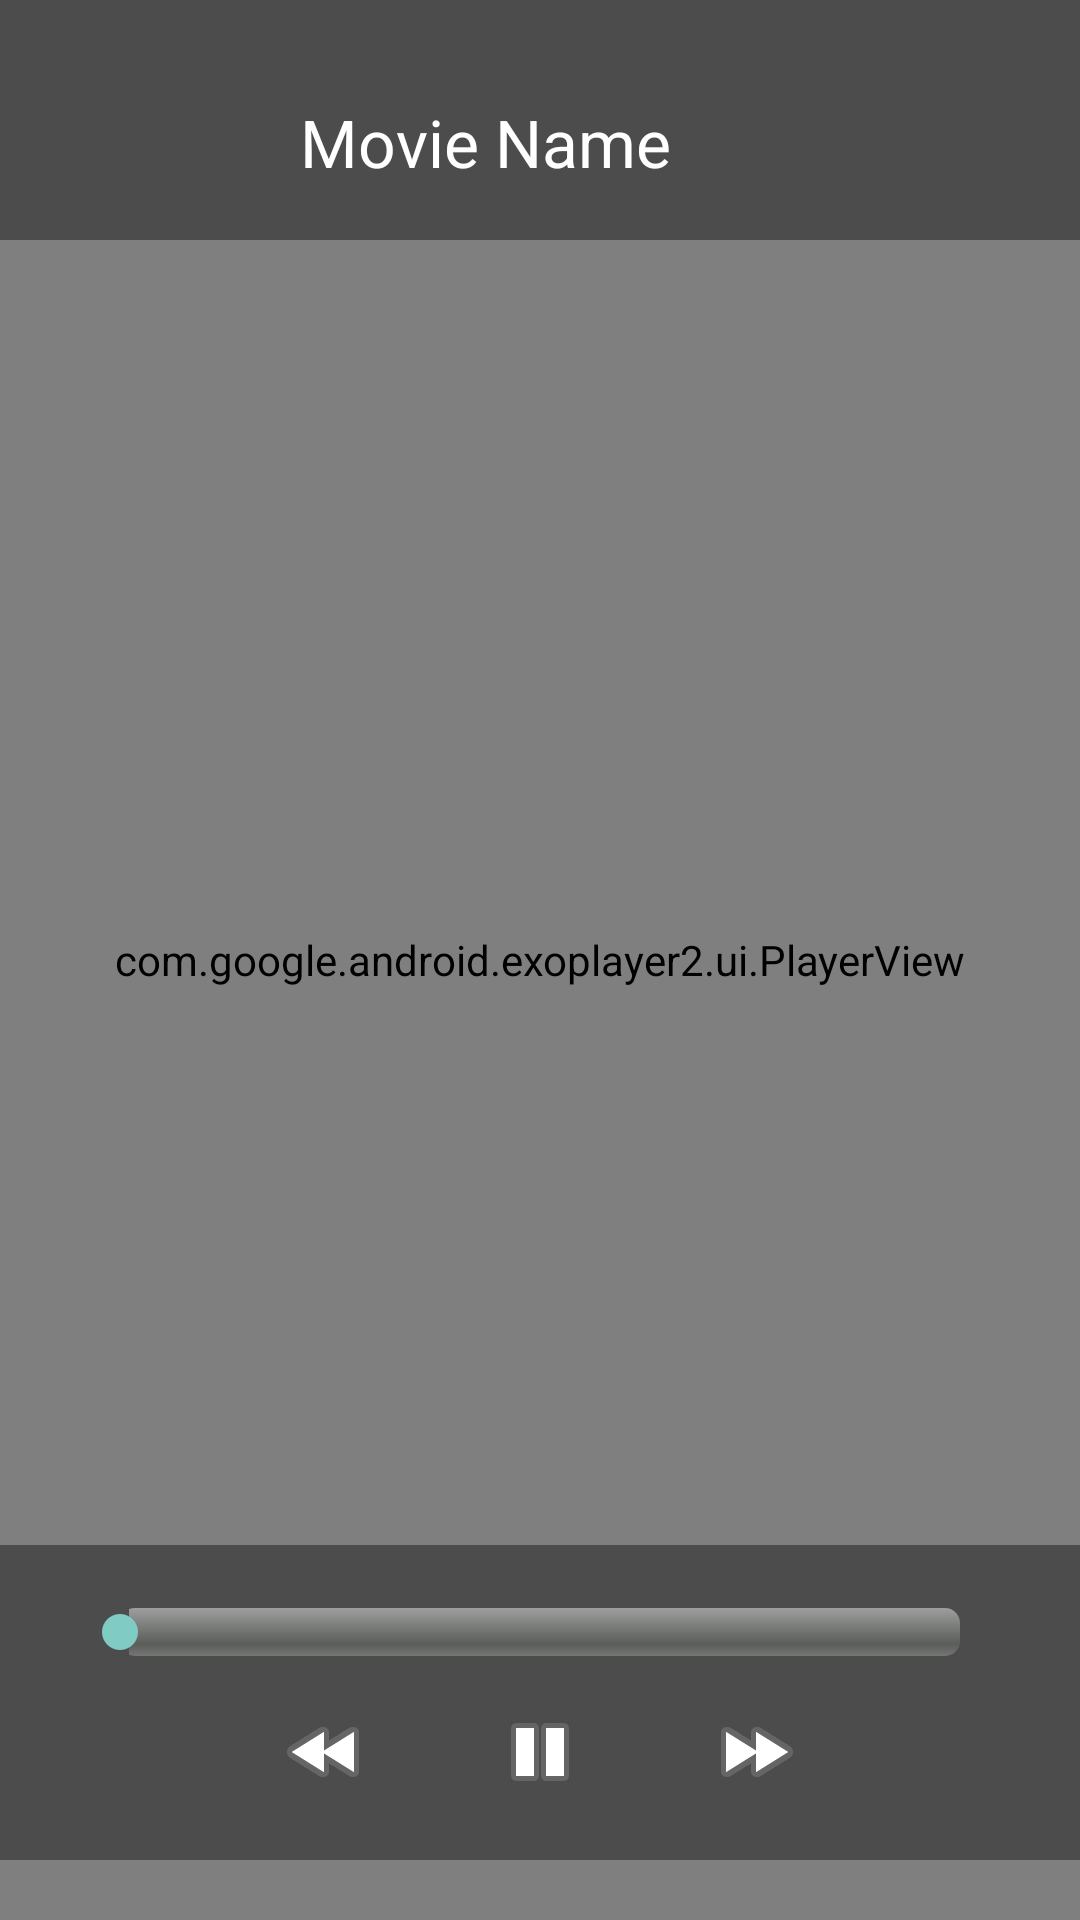

Where to tap for icons on this 1080px x 1920px app screen, as point (x, y):
pause: point (540, 1752)
rew: point (323, 1752)
